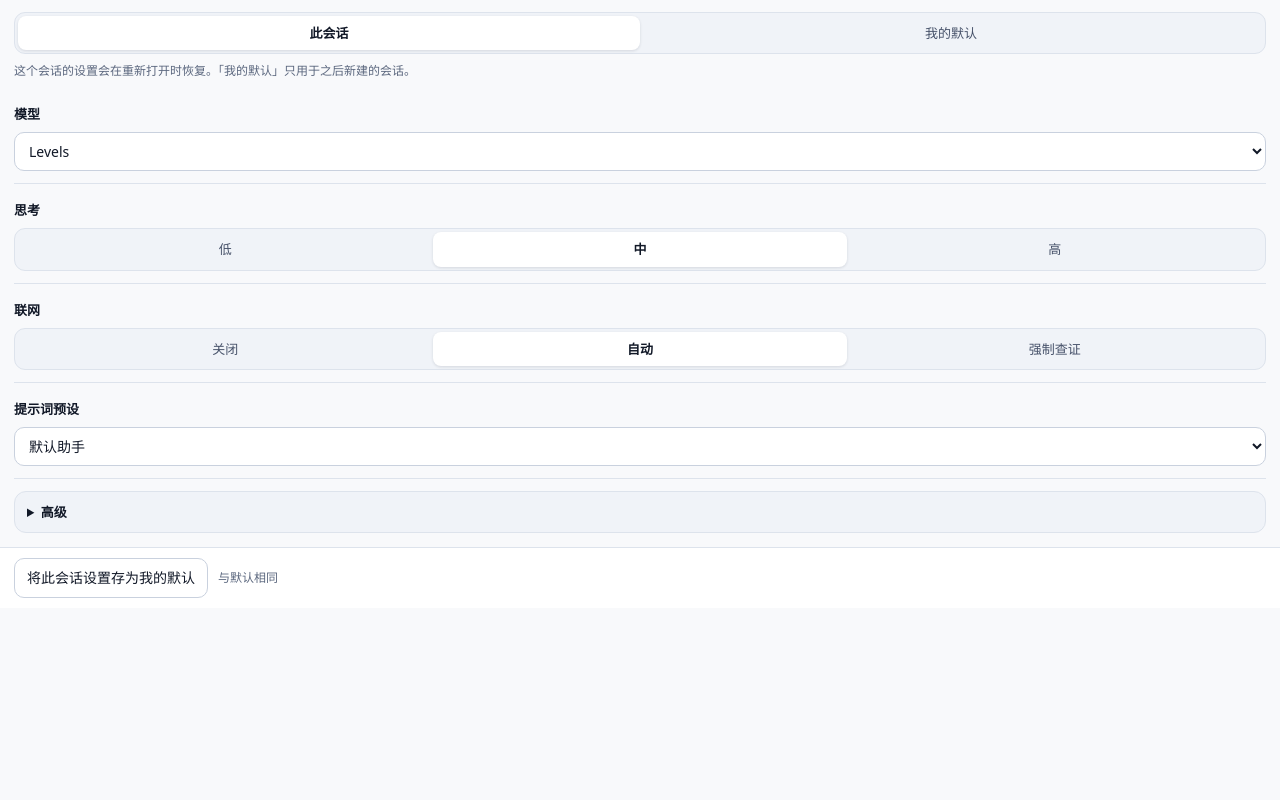
Test: SettingsPanel › marks what differs from the defaults and puts it back, one setting or all
Expected: the text "与默认相同" is shown, 218,569 -> 278,587
Click the radio button labelled "高" at (1055, 249), box 847,232 -> 1262,266
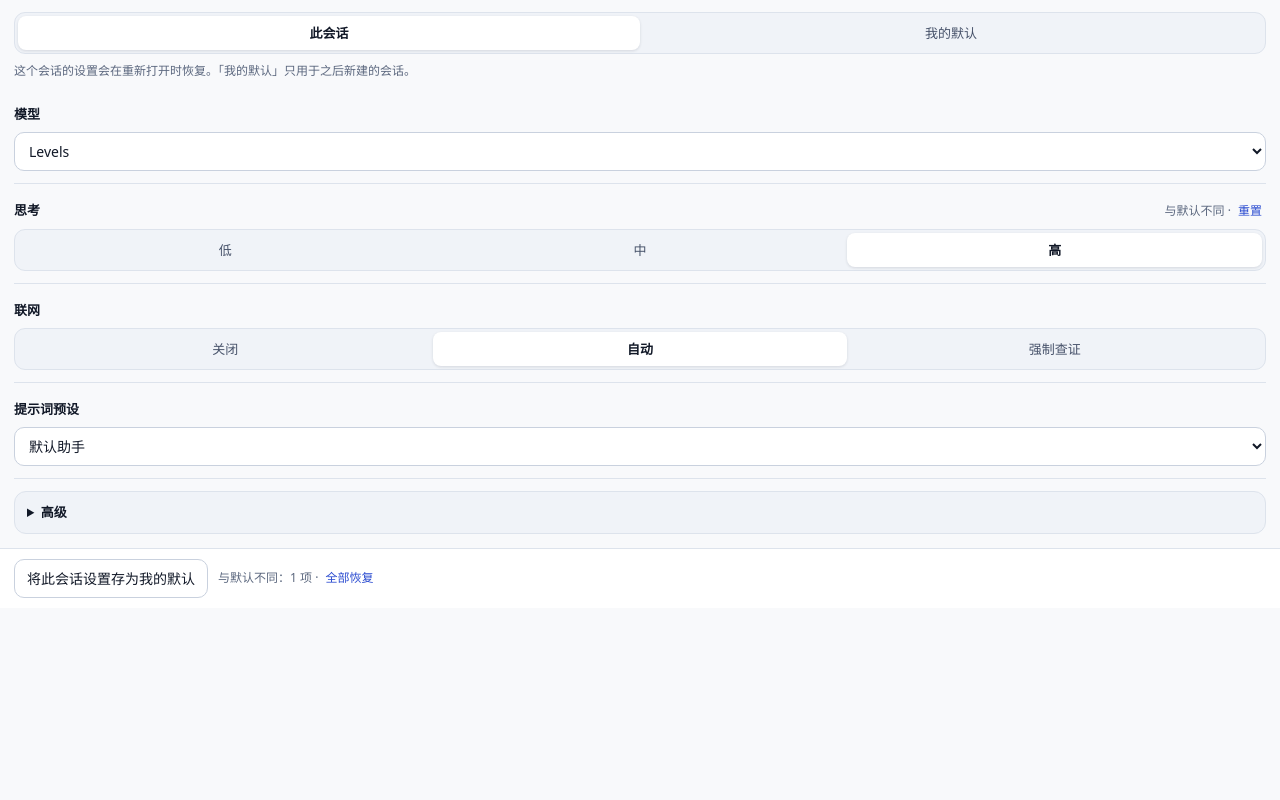
Click the radio button labelled "关闭" at (225, 349), box 18,332 -> 433,366
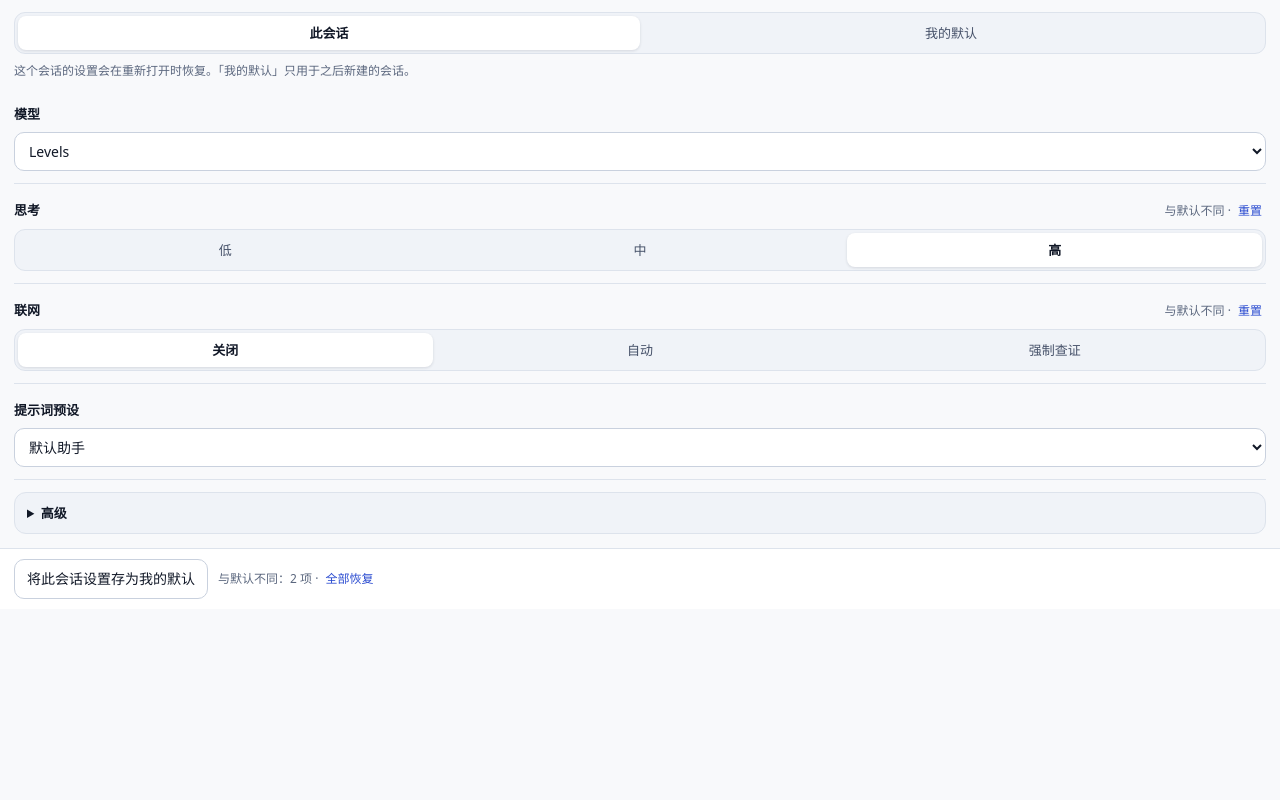
Expected: the text "与默认不同：2 项 · 全部恢复" is shown, 218,570 -> 378,588
Expected: the number of buttons "重置" is 2
Click the button "重置" in the row of "思考" at (1250, 212), box 1234,202 -> 1266,221
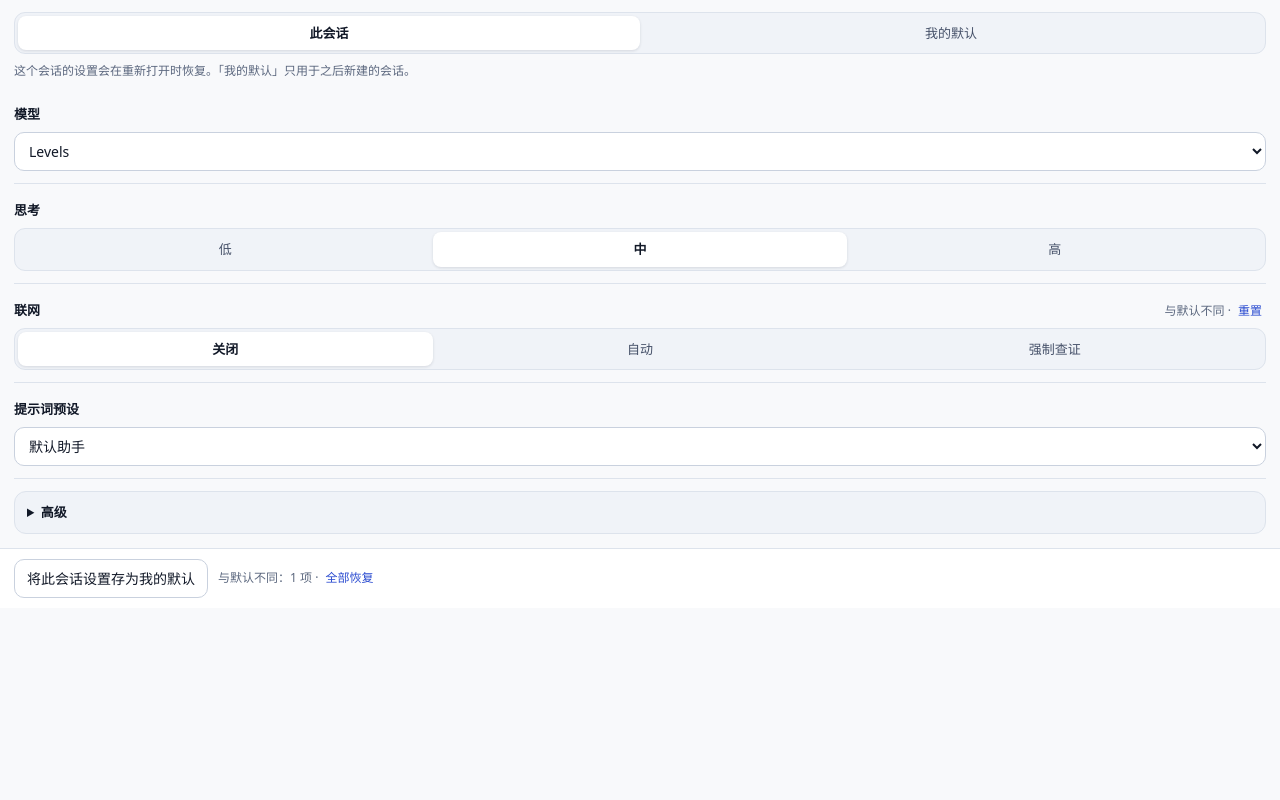
Expected: the text "与默认不同：1 项 · 全部恢复" is shown, 218,569 -> 378,588
Click the button "全部恢复" at (350, 578), box 322,569 -> 378,588
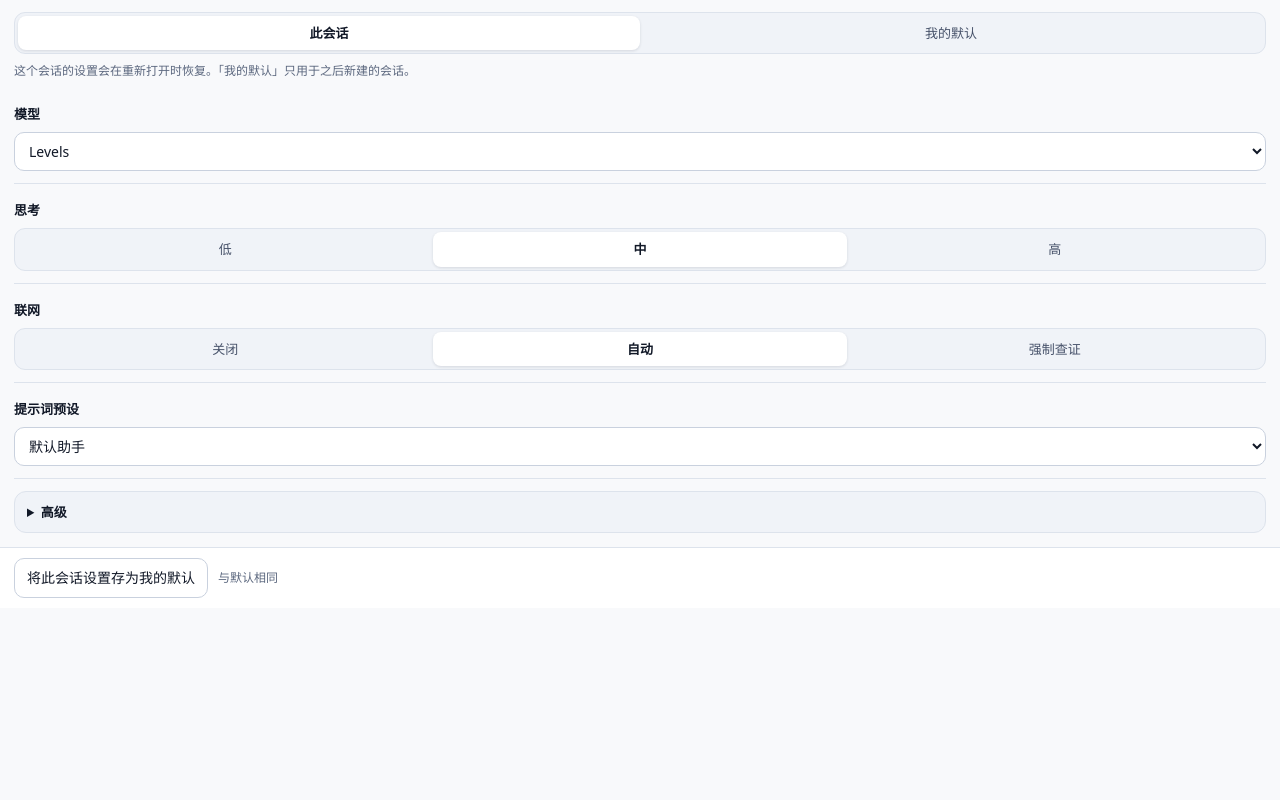
Expected: the text "与默认相同" is shown, 218,569 -> 278,587
